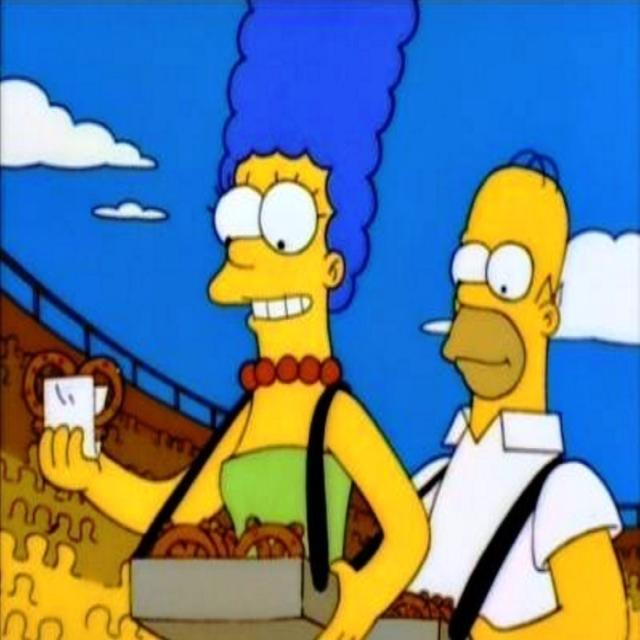Homer Simpson: (438, 146, 574, 442)
Marge Simpson: (204, 0, 423, 398)
